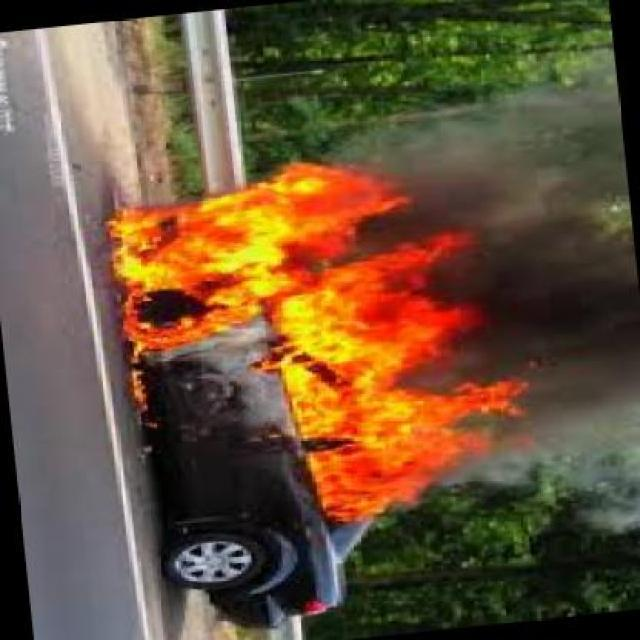Fire: (100, 157, 498, 529)
Smoke: (483, 114, 640, 456), (390, 133, 550, 231)
